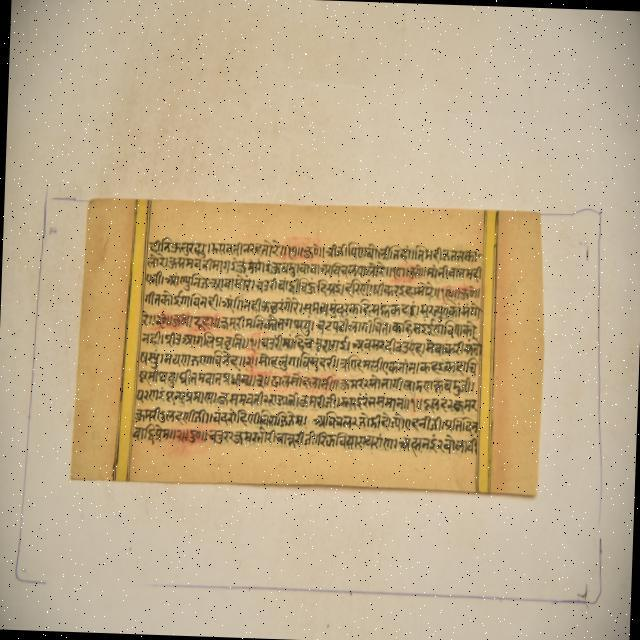text_paragraph: (70, 201, 539, 496)
